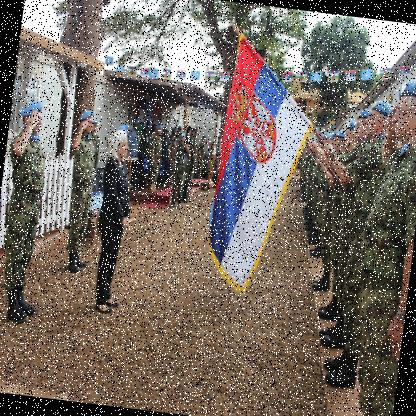rs: (204, 35, 325, 300)
